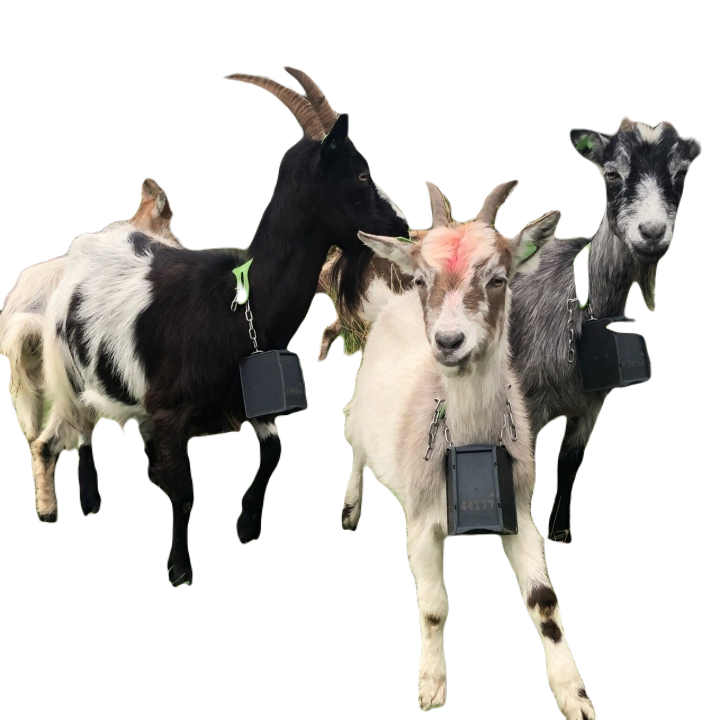Goat: (336, 178, 598, 719)
